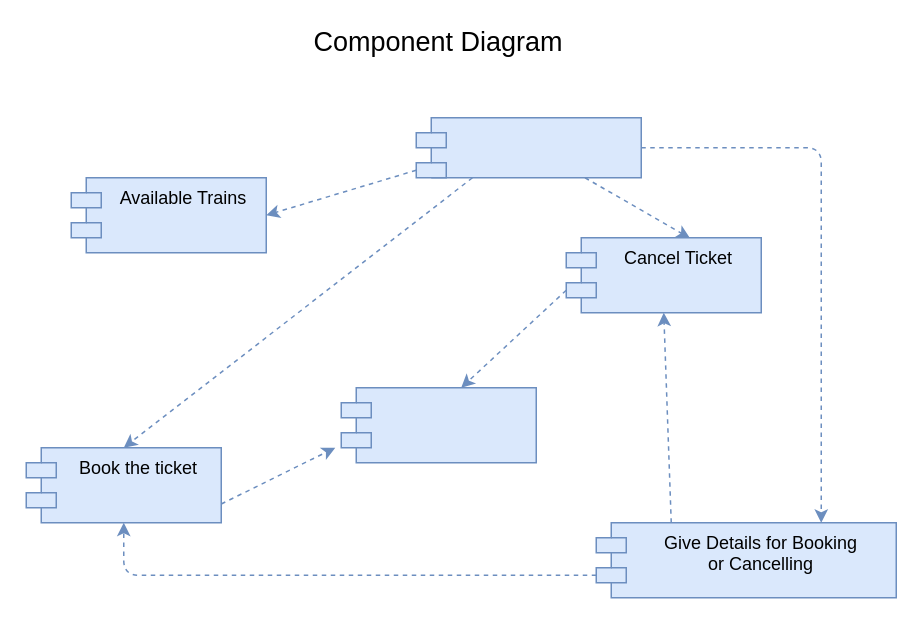
Image size: 923x624. Some labels were removed from this diagram. The shapes that lost their labels are listed below. From the top down, each one's centre as x and y in pixels, then its label:
point 528,147: Terminal
point 438,424: seats_reserved.txt
